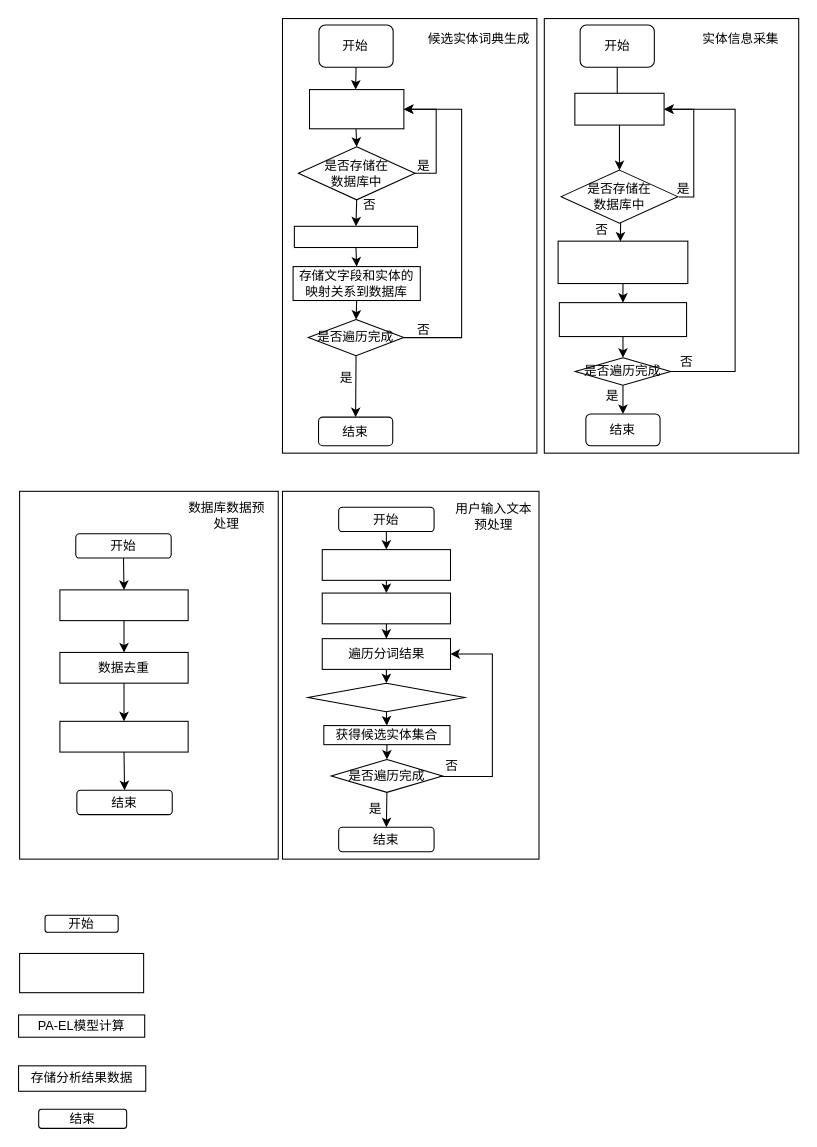
The diagram is 817 pixels wide and 1147 high, and some of its shapes have lost their labels. The centre of each missing label's shape, as x and y in pixels:
处理文本特殊字符: pixel 385 564
数据库数据读取: pixel 123 605
数据清洗: pixel 123 736
文本命名实体识别: pixel 385 608
是否在实体词典中: pixel 386 697
爬取实体对应的 属性和结构数据: pixel 622 262
解析相关信息并存储到数据库: pixel 622 319
读取已完成 预处理的数据: pixel 81 972
调用搜索引擎API: pixel 355 236
遍历实体词典中的实体: pixel 619 108
遍历训练文本中可能的文字段: pixel 356 109
